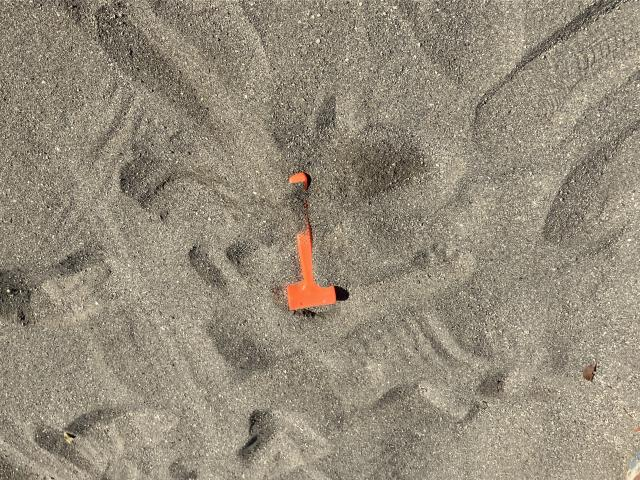hammer: (284, 174, 336, 309)
